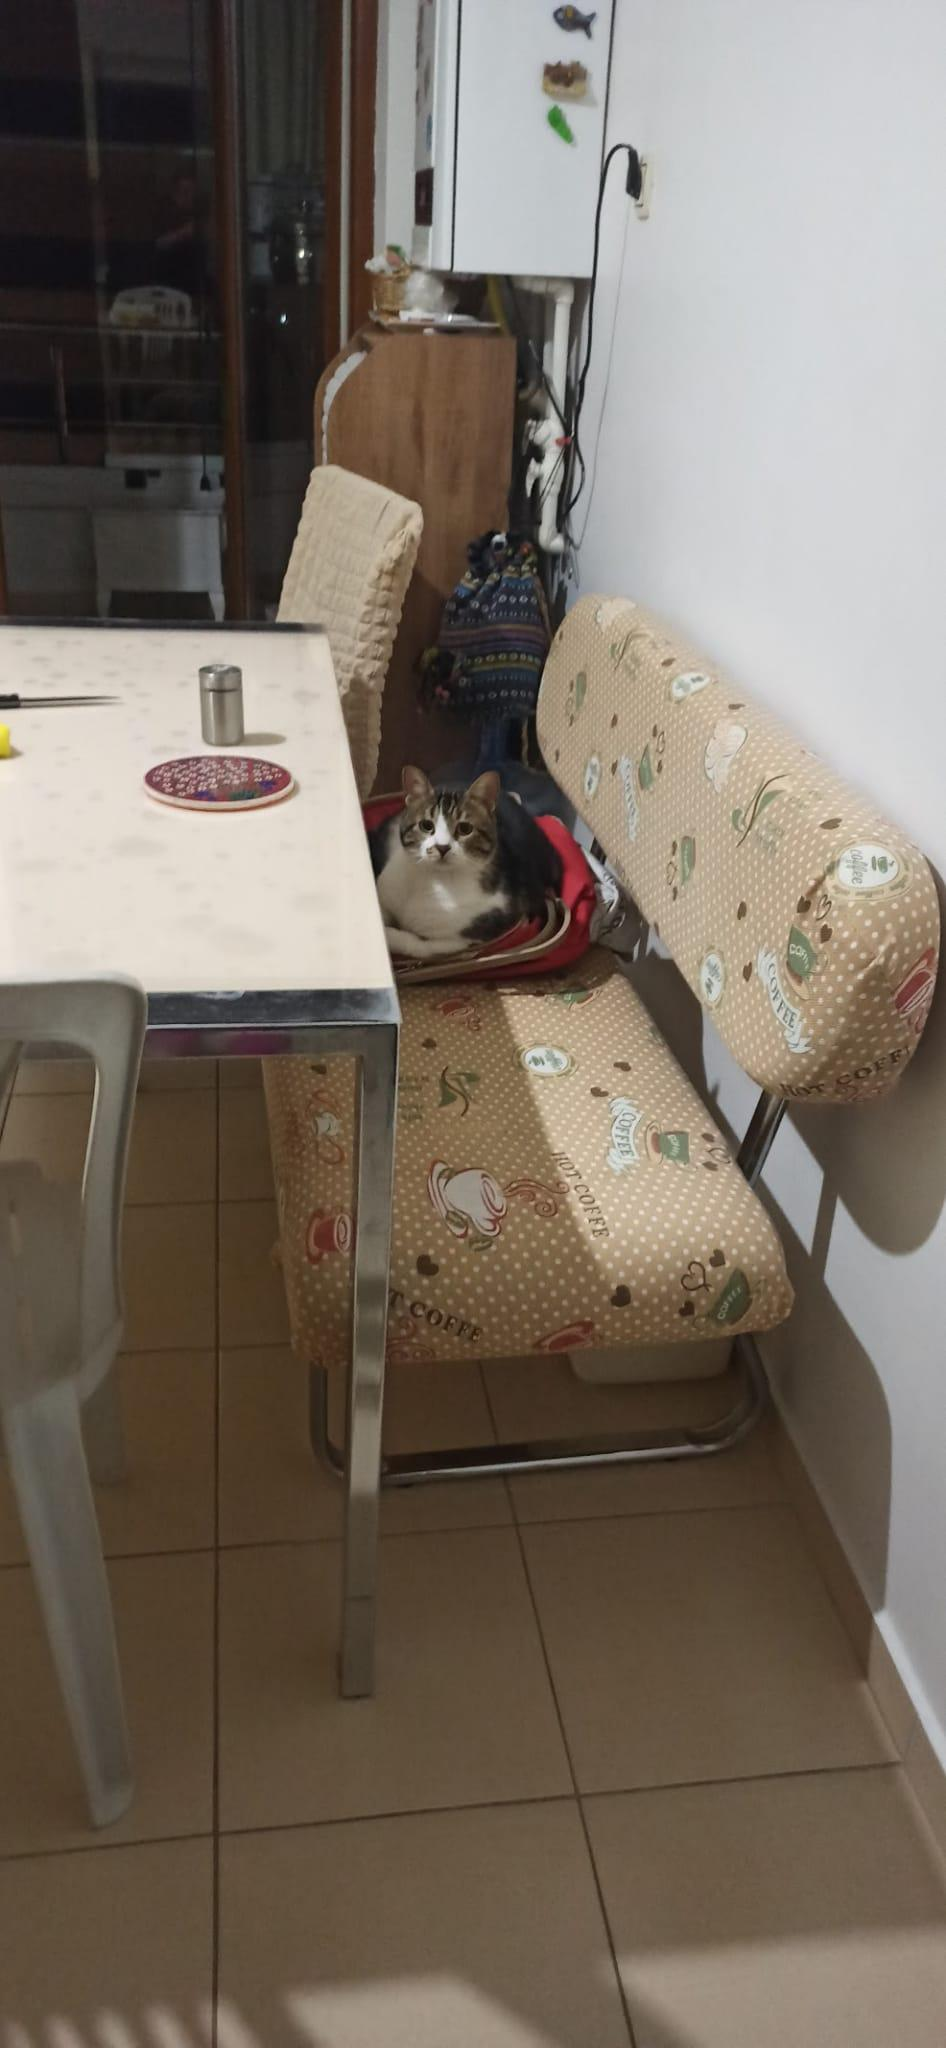kedo: (378, 763, 537, 957)
